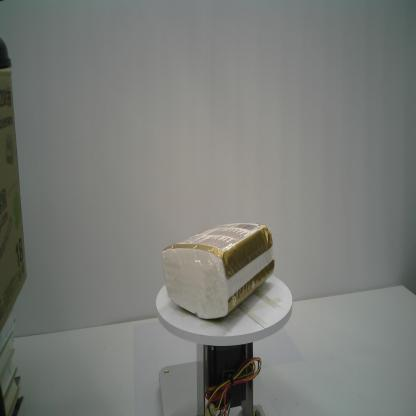Tissue: (160, 222, 276, 321)
